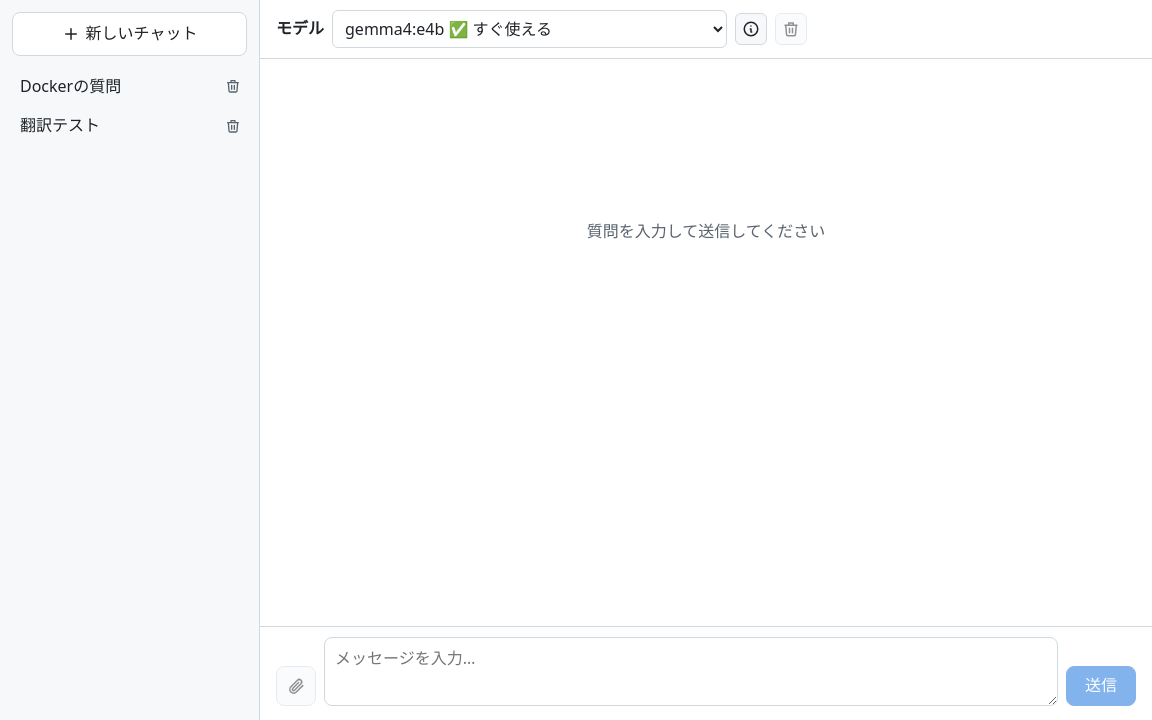
it: AppShell › 削除確認で [削除する] → 選択中モデルならデフォルトモデルに切り替わり、会話中だったなら新しいチャットになる
Click the button with aria-label "Dockerの質問 を開く": (116, 86) [12, 68, 219, 105]
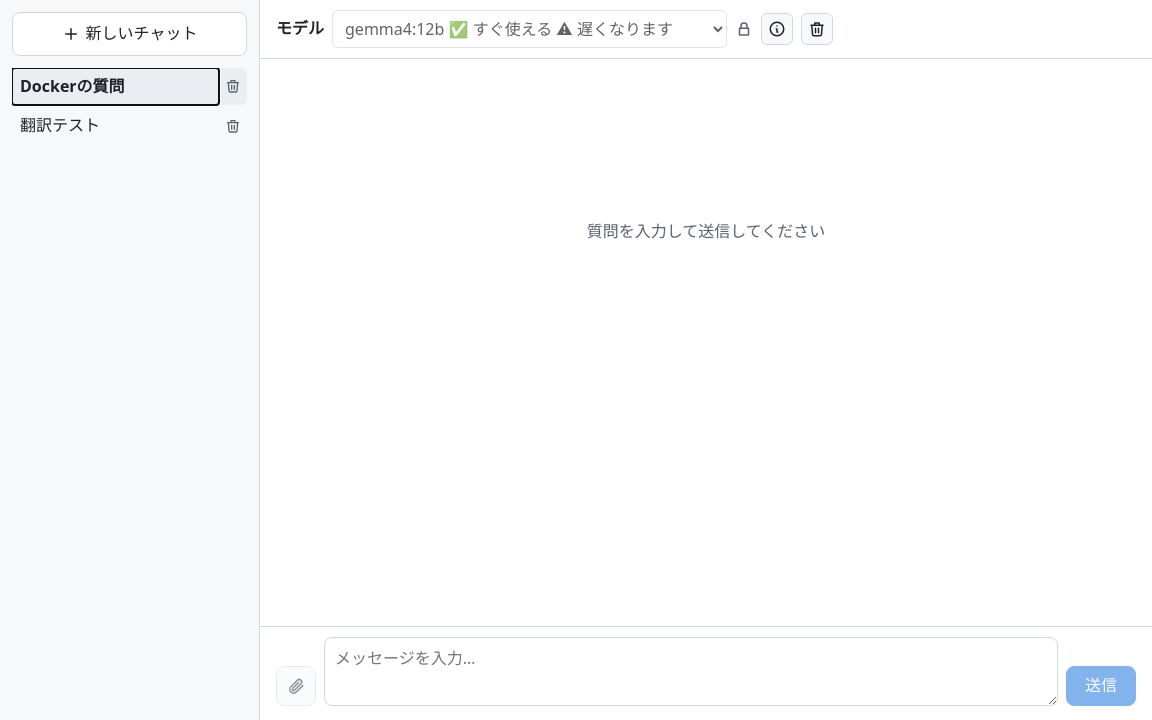
Result: the dropdown labelled "モデル" shows "gemma4:12b ✅ すぐ使える ⚠ 遅くなります" at [332, 10, 727, 48]
Click the button named "モデルを削除": (817, 29) [801, 13, 833, 45]
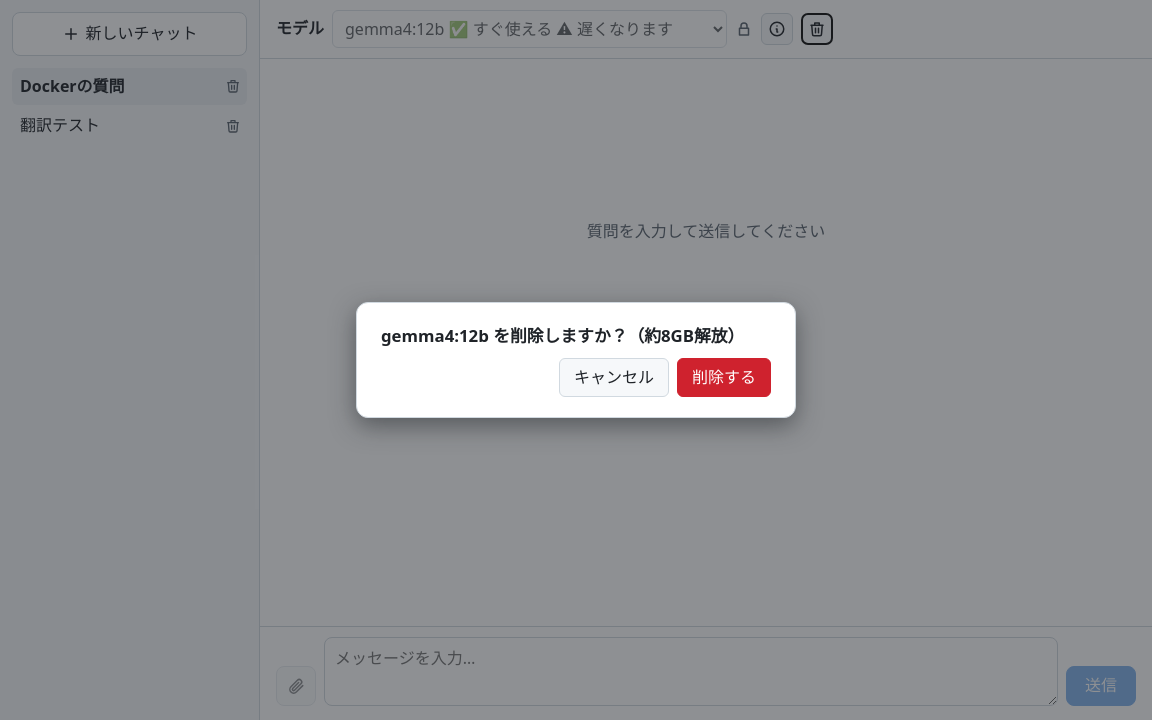
Result: the dialog shows "gemma4:12b を削除しますか？（約8GB解放）" at [381, 324, 744, 347]
Click the button "削除する": (724, 377) [677, 358, 771, 397]
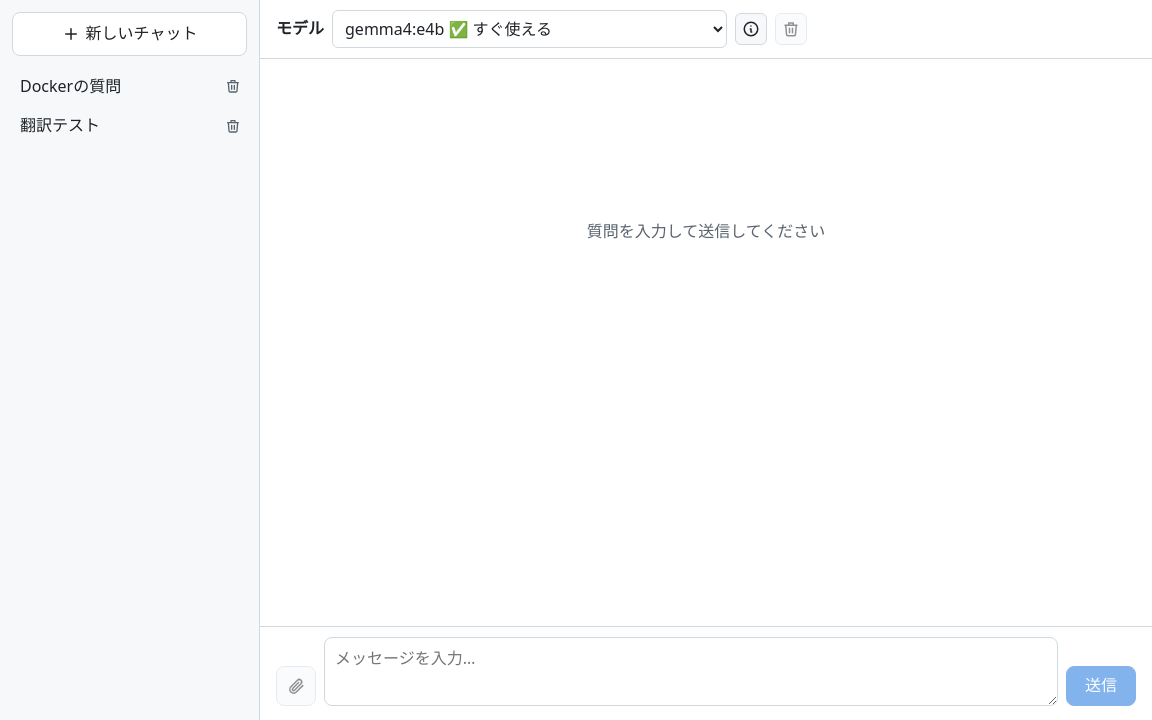
Result: the dropdown labelled "モデル" shows "gemma4:e4b ✅ すぐ使える" at [332, 10, 727, 48]
Result: the dropdown labelled "モデル" is enabled at [332, 10, 727, 48]
